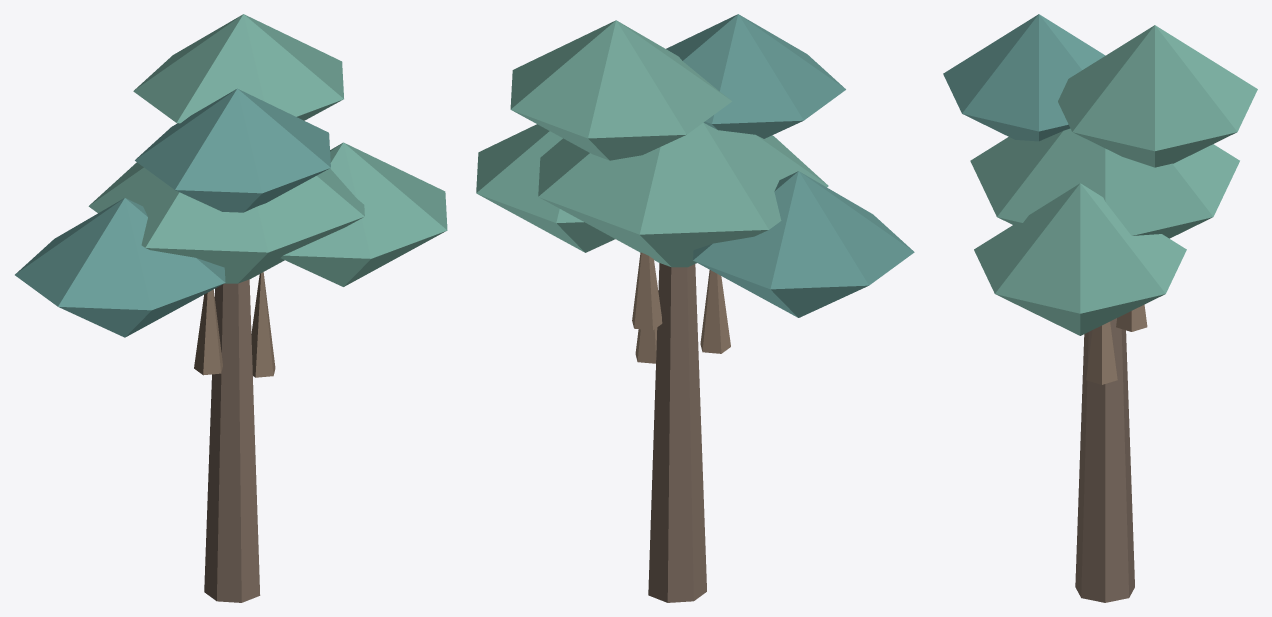
The model's file is broadleaf.glb.
3 views of the same model, side by side, from view 1: azimuth 30°, elevation 25°; view 2: azimuth 150°, elevation 25°; view 3: azimuth 270°, elevation 25° (orthographic). The views are drawn at different scales.
Visible parts, largest first — view 1: 星形の葉群, 幹と分枝; view 2: 星形の葉群, 幹と分枝; view 3: 星形の葉群, 幹と分枝.
Part boxes in pixels (box(x1,y1,x2,y2)): 星形の葉群: box(15, 14, 447, 337); 幹と分枝: box(194, 272, 275, 602); 星形の葉群: box(476, 14, 914, 317); 幹と分枝: box(632, 252, 730, 602); 星形の葉群: box(943, 14, 1257, 335); 幹と分枝: box(1075, 304, 1147, 602).
Bounding box in the file's own units: 5.91 × 7.76 × 3.8.
